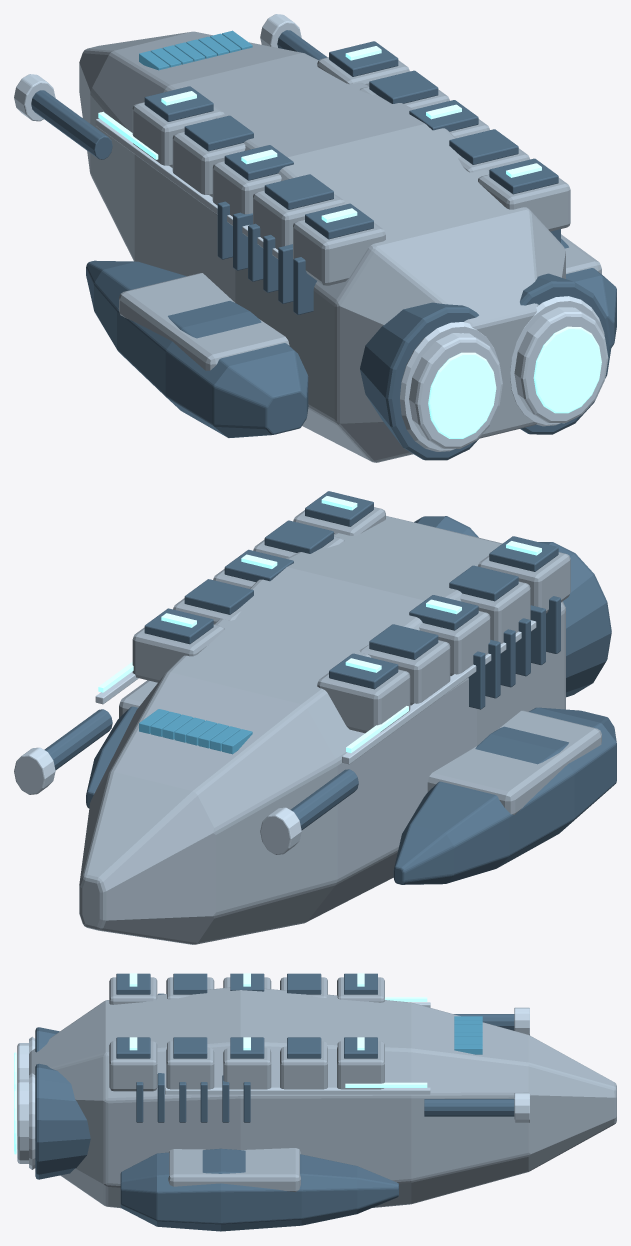
The model's file is shuttle_swift.glb.
3 renders of one model, top to bottom at view 1: azimuth 30°, elevation 25°; view 2: azimuth 150°, elevation 25°; view 3: azimuth 270°, elevation 25°, orthographic. The views are drawn at different scales.
Visible parts, largest first — view 1: council_hull, council_dark, council_trim, council_glow, council_glass; view 2: council_hull, council_dark, council_trim, council_glass, council_glow; view 3: council_hull, council_dark, council_trim, council_glow, council_glass.
Boxes of the visible parts, box(x1,y1,x2,y2) form: council_hull: box(79, 31, 601, 462); council_dark: box(31, 30, 616, 460); council_trim: box(14, 14, 608, 451); council_glow: box(98, 46, 601, 438); council_glass: box(139, 30, 252, 70); council_hull: box(79, 507, 601, 944); council_dark: box(44, 491, 616, 884); council_trim: box(14, 586, 602, 854); council_glass: box(139, 709, 252, 754); council_glow: box(98, 496, 541, 752); council_hull: box(29, 977, 616, 1208); council_dark: box(35, 973, 514, 1231); council_trim: box(17, 1002, 529, 1169); council_glow: box(14, 973, 427, 1154); council_glass: box(454, 1016, 482, 1054).
Size of the model in its own units: 10 by 6 by 18.
